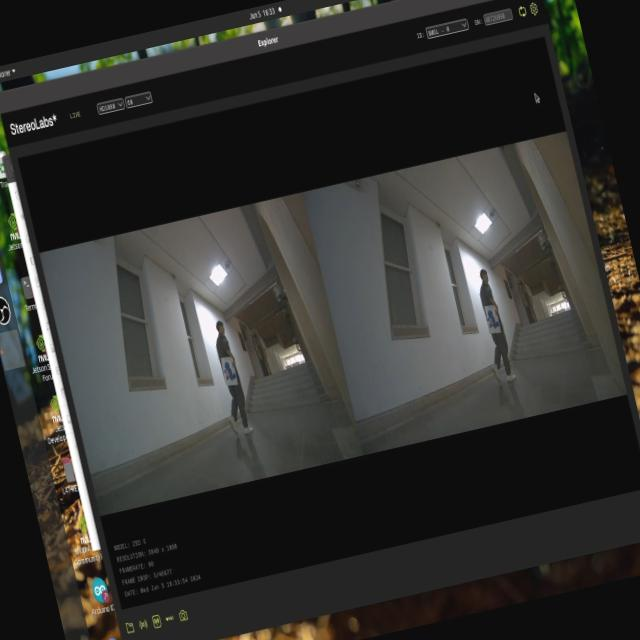blue: (218, 355, 242, 393), (482, 307, 502, 341)
